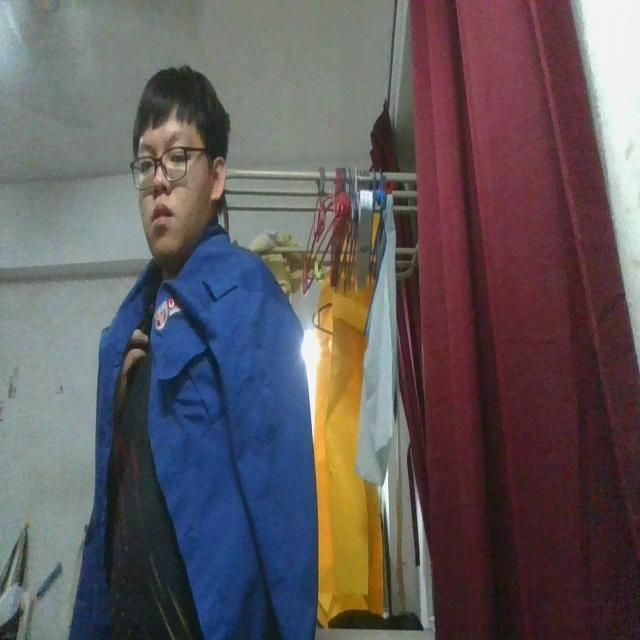person_without_labcoat: (71, 67, 317, 639)
